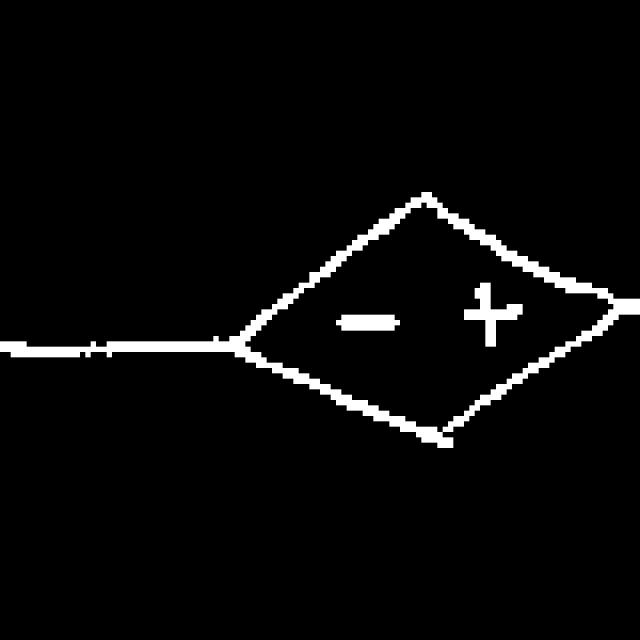dependant_voltage: (213, 176, 640, 464)
